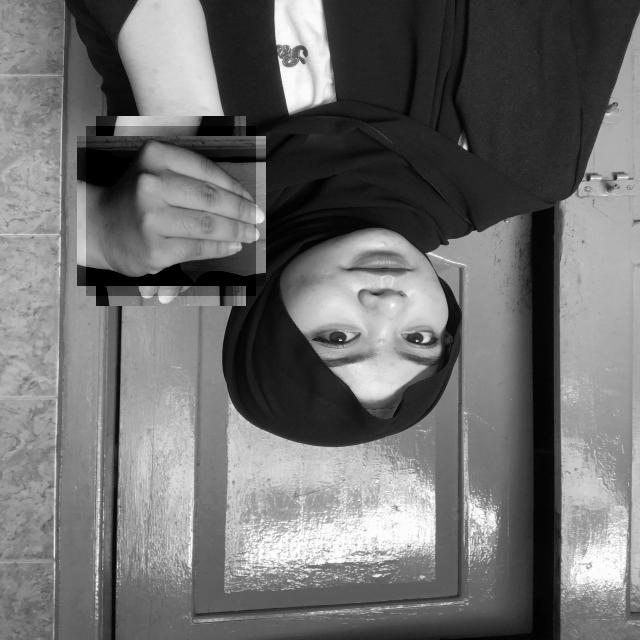berapa: (86, 126, 256, 296)
